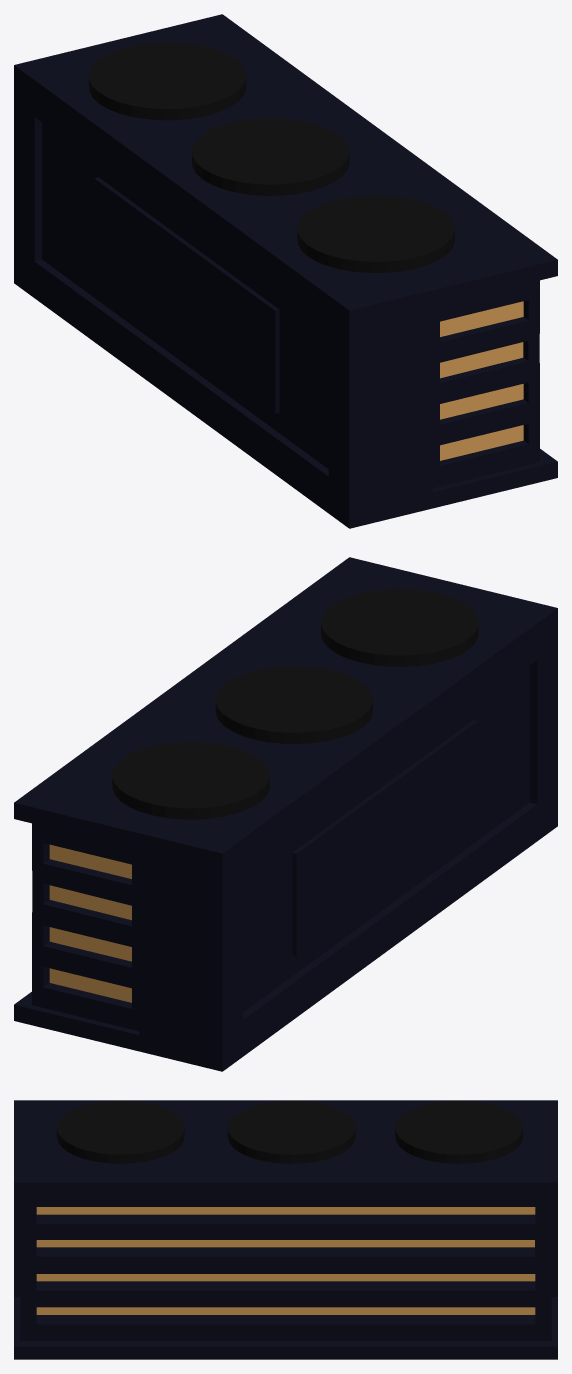
The model's file is Generator_2.fbx.
The picture shows the model from 3 angles, top to bottom: view 1: azimuth 30°, elevation 25°; view 2: azimuth 150°, elevation 25°; view 3: azimuth 270°, elevation 25°; orthographic projection. The views are drawn at different scales.
Visible parts, largest first — view 1: Cylinder.002; view 2: Cylinder.002; view 3: Cylinder.002.
Boxes of the visible parts, x1=… form: Cylinder.002: x1=14, y1=14, x2=557, y2=528; Cylinder.002: x1=14, y1=557, x2=557, y2=1071; Cylinder.002: x1=14, y1=1100, x2=557, y2=1359.
Size of the model in its own units: 198 by 208 by 550.
